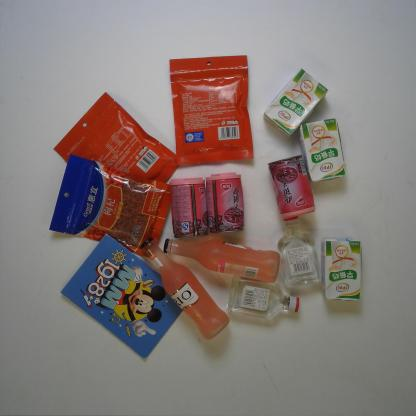Alcohol: (139, 236, 232, 342), (162, 237, 281, 285), (276, 214, 323, 289), (226, 274, 300, 320)
Canned Food: (266, 154, 316, 220), (168, 176, 210, 239), (205, 172, 245, 234)
Dried Fruit: (47, 153, 174, 259), (52, 90, 182, 186), (167, 53, 254, 166)
Milk: (262, 66, 330, 139), (298, 117, 348, 184), (319, 236, 364, 302)
Stationery: (59, 232, 187, 361)
